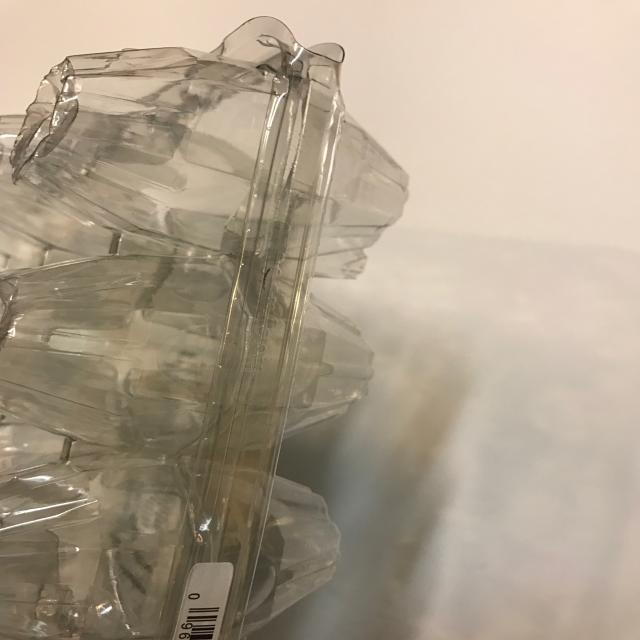plastic: (2, 15, 410, 640)
